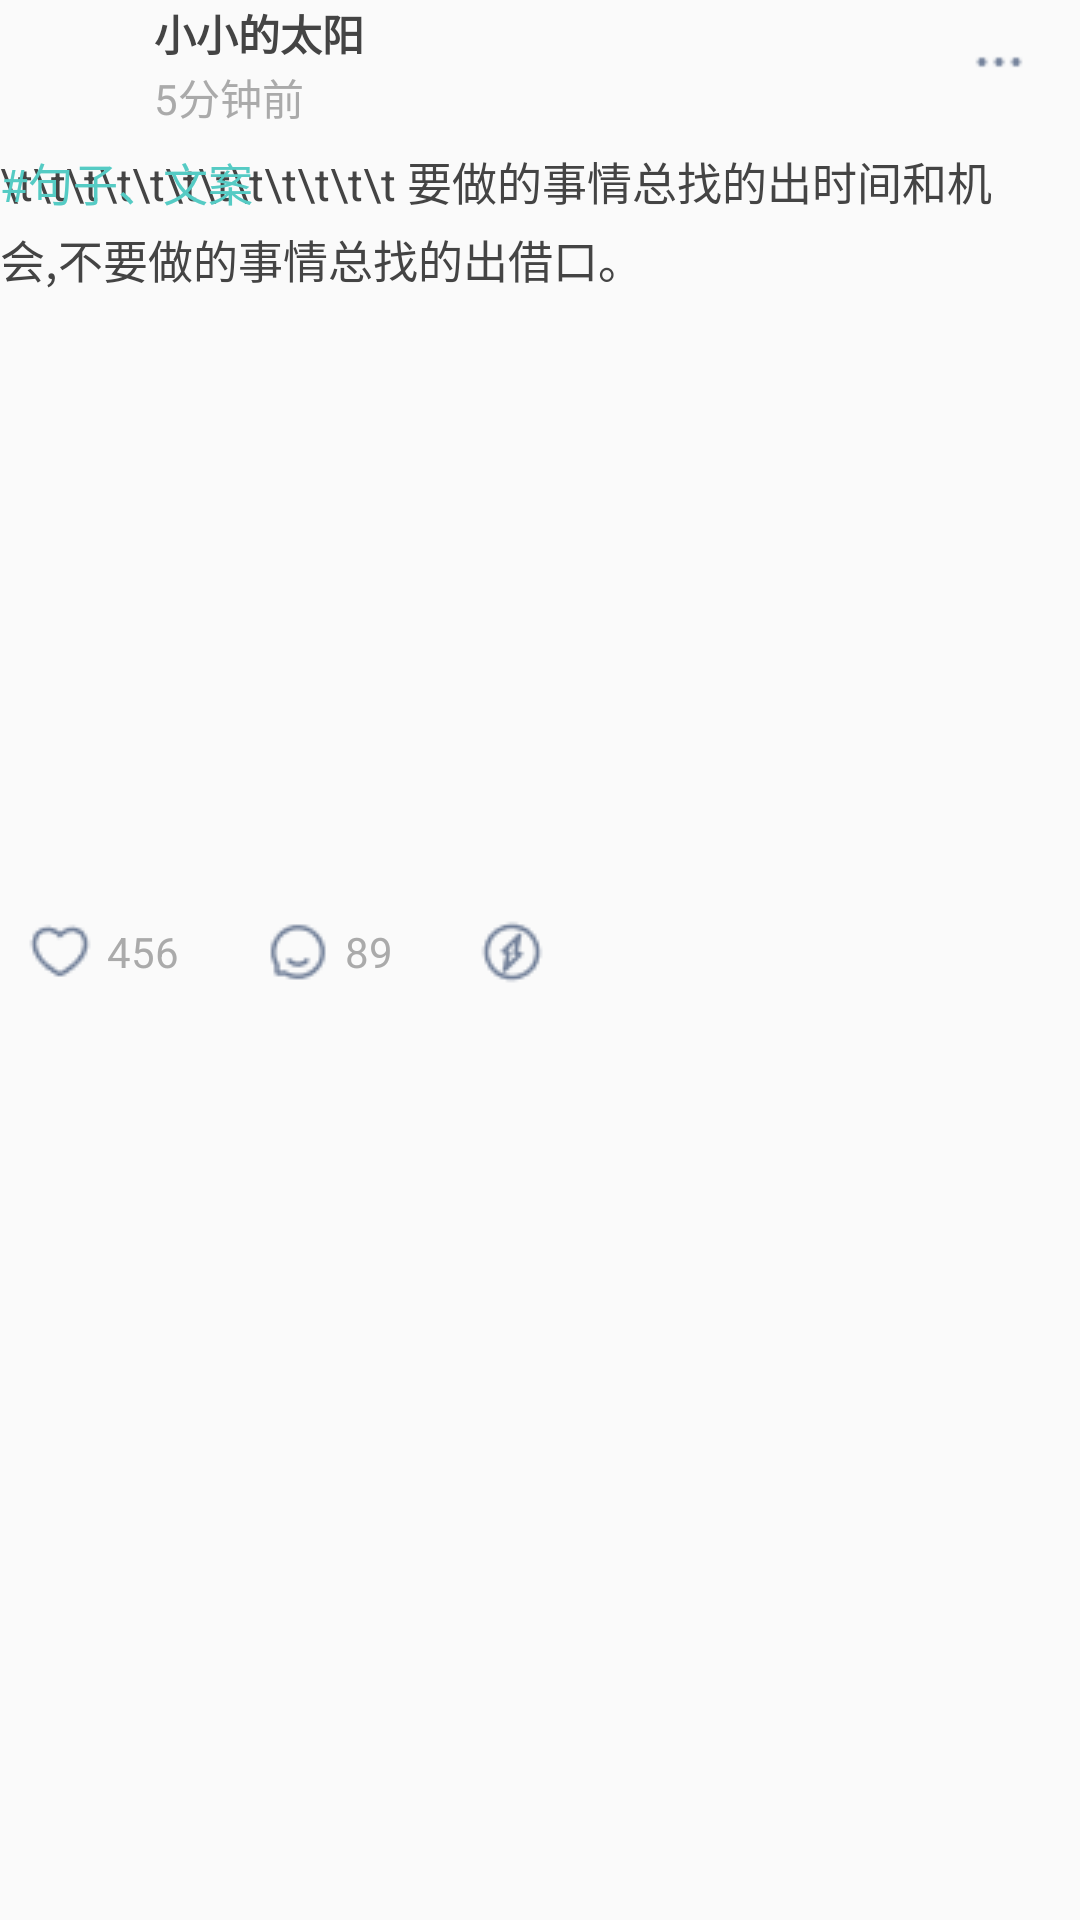

Icons on this 1080 x 1920 Android screen, each with its box as [x1,y1,x2,y2]:
src home comment: [270,924,326,980]
src home more: [976,57,1022,67]
src home unlove: [31,926,89,977]
